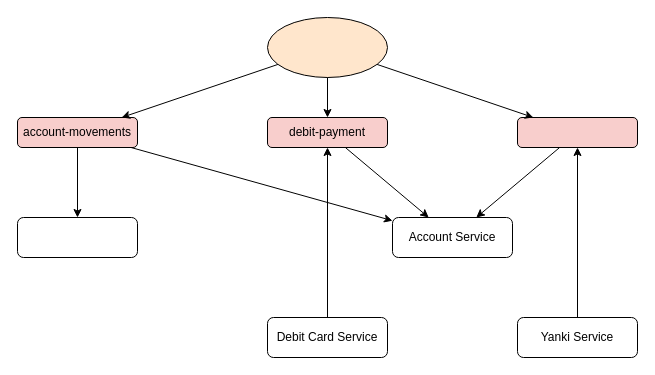
Image size: 655x375. Some labels were removed from this diagram. Each missing label, with the centre of its shape:
"Kafka Cluster" goes at pixel 327 47.
"Movement Service" goes at pixel 77 237.
"yanki-payment" goes at pixel 577 132.
